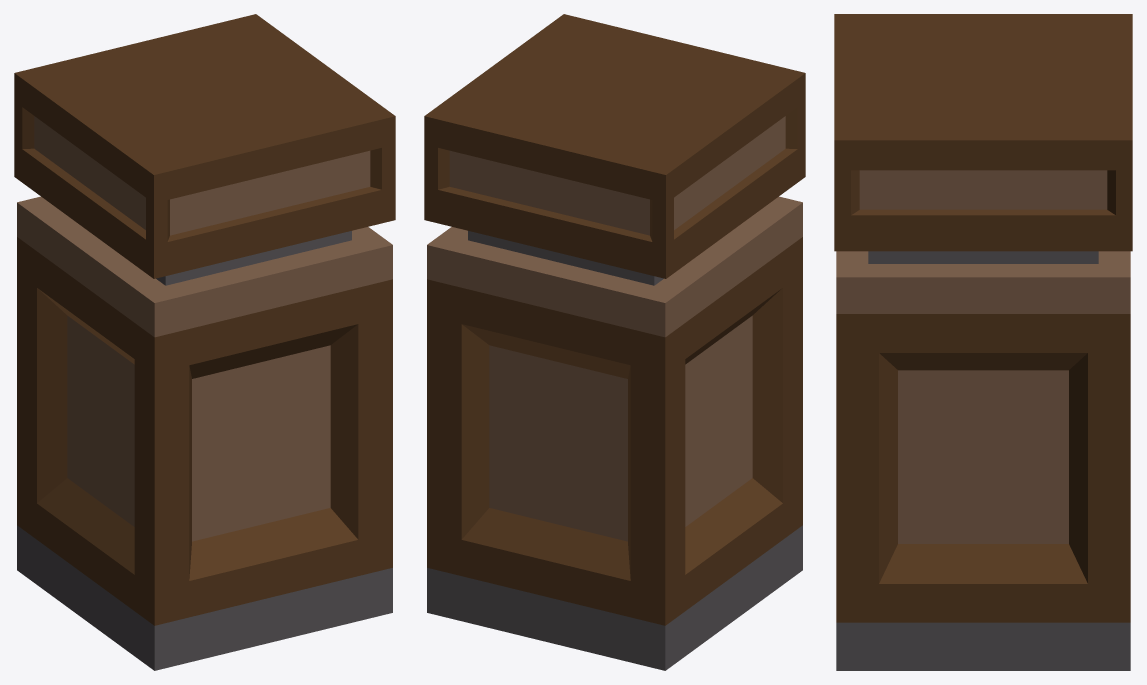
The model's file is Wall_Gate.fbx.
3 renders of one model, left to right at view 1: azimuth 30°, elevation 25°; view 2: azimuth 150°, elevation 25°; view 3: azimuth 270°, elevation 25°, orthographic. The views are drawn at different scales.
Visible parts, largest first — view 1: Wall_Gate; view 2: Wall_Gate; view 3: Wall_Gate.
Boxes of the visible parts, x1,y1,x2,y2 form: Wall_Gate: (14, 14, 395, 670); Wall_Gate: (424, 14, 805, 670); Wall_Gate: (834, 14, 1132, 670).
Bounding box in the file's own units: 101 × 199 × 101.
